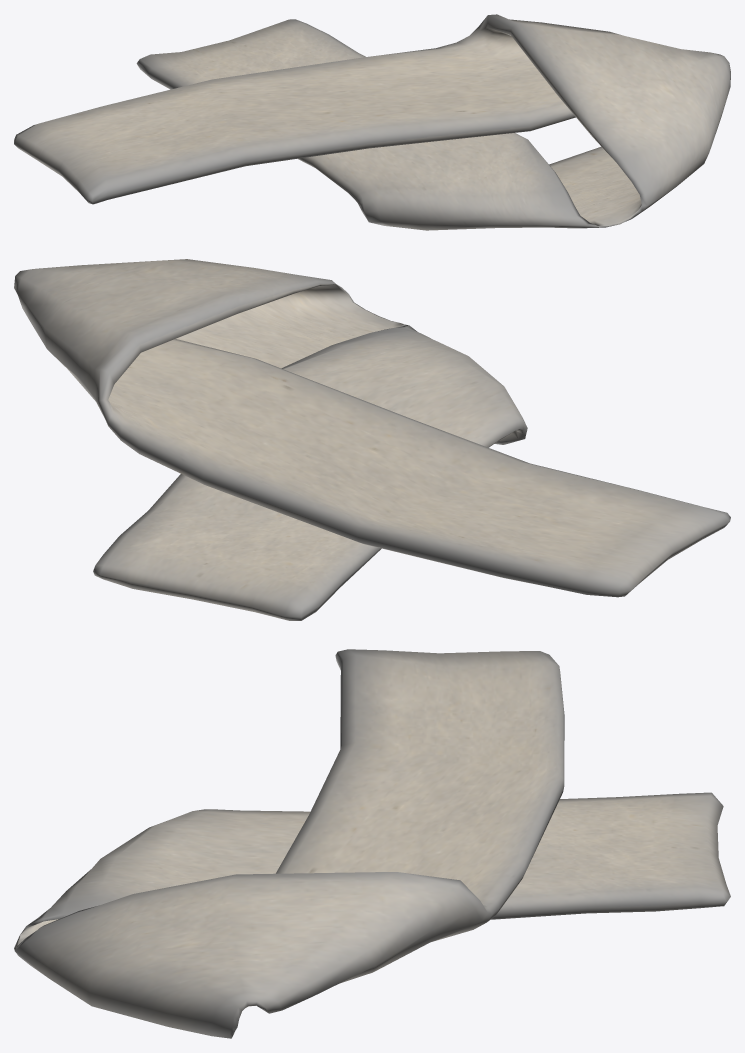
The model's file is foldednote4.obj.
3 renders of one model, top to bottom at view 1: azimuth 30°, elevation 25°; view 2: azimuth 150°, elevation 25°; view 3: azimuth 270°, elevation 25°, orthographic. The views are drawn at different scales.
Parts seen in each view (by area): view 1: note_low; view 2: note_low; view 3: note_low.
Part boxes in pixels (bbox=[...]): note_low: bbox=[14, 14, 730, 230]; note_low: bbox=[14, 259, 730, 620]; note_low: bbox=[14, 649, 730, 1038].
Size of the model in its own units: 0.8344 by 0.1269 by 0.6671.
